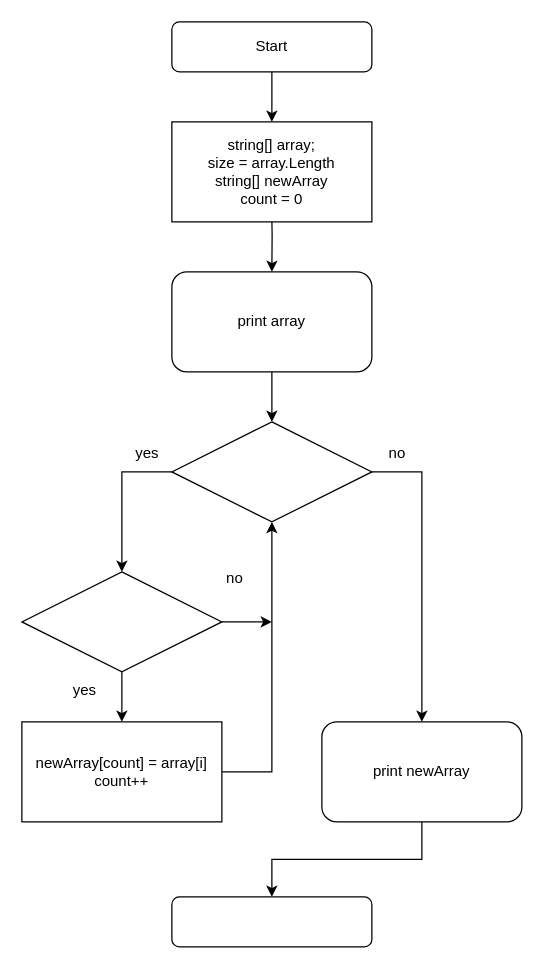
Image size: 544x969. Some labels were removed from this diagram. The centre of each missing label's shape, as x and y in pixels:
array[i].Length <= 3 ?: [121,621]
End: [271,921]
index < size ?: [271,471]
